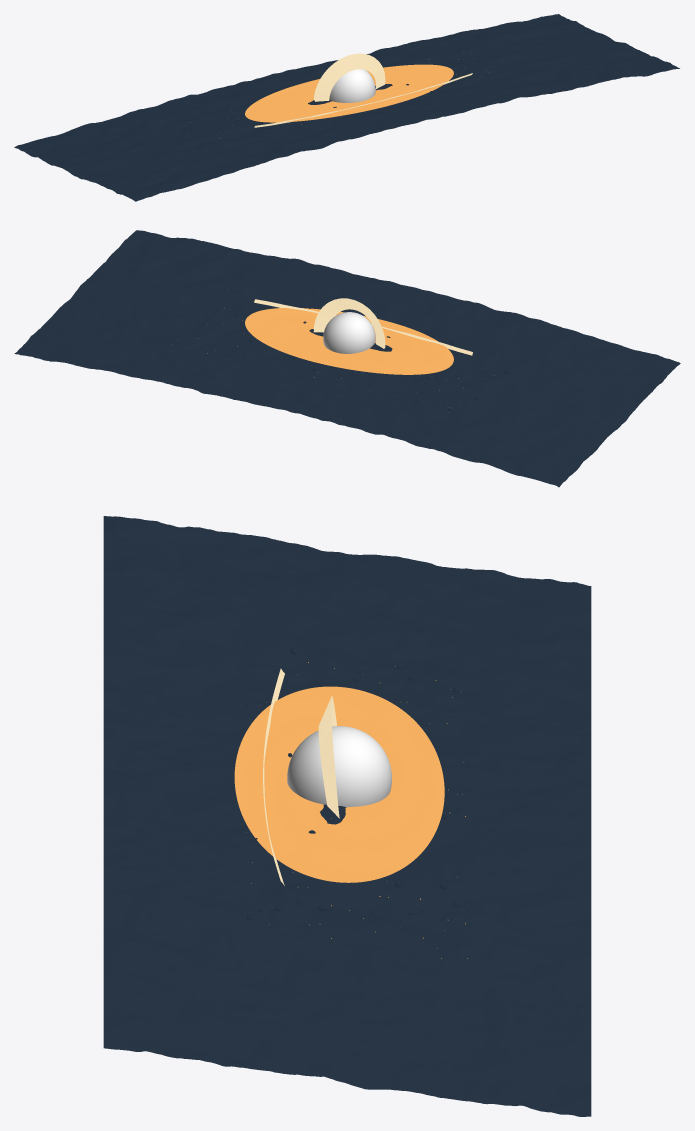
Rendered from event-horizon.glb.
3 renders of one model, top to bottom at view 1: azimuth 30°, elevation 25°; view 2: azimuth 150°, elevation 25°; view 3: azimuth 270°, elevation 25°, orthographic. The views are drawn at different scales.
Visible parts, largest first — view 1: HorizonTerrain, AccretionDisk, LensedCorona, EventHorizon, LensedStream; view 2: HorizonTerrain, AccretionDisk, EventHorizon, LensedCorona, LensedStream; view 3: HorizonTerrain, AccretionDisk, EventHorizon, LensedCorona.
Part boxes in pixels (x1,y1,x2,y2): HorizonTerrain: (14, 14, 679, 201); AccretionDisk: (245, 64, 453, 122); LensedCorona: (313, 53, 385, 101); EventHorizon: (329, 69, 375, 102); LensedStream: (254, 73, 472, 127); HorizonTerrain: (14, 230, 680, 487); AccretionDisk: (245, 308, 453, 374); EventHorizon: (323, 312, 375, 353); LensedCorona: (313, 298, 385, 348); LensedStream: (254, 299, 472, 355); HorizonTerrain: (103, 516, 591, 1116); AccretionDisk: (234, 686, 444, 882); EventHorizon: (287, 726, 391, 807); LensedCorona: (318, 696, 339, 818).
Size of the model in its own units: 24 by 3.15 by 9.3.
